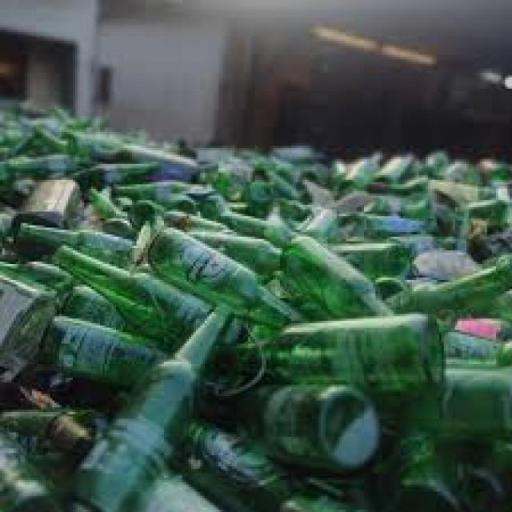glass: (72, 309, 231, 509), (252, 313, 445, 400), (48, 250, 214, 350), (143, 224, 299, 324), (227, 379, 386, 474), (373, 355, 512, 452), (172, 427, 299, 512), (277, 234, 397, 322), (43, 314, 171, 386), (386, 254, 512, 318), (394, 430, 483, 512), (1, 268, 62, 378), (0, 407, 102, 460), (17, 224, 135, 264), (202, 202, 296, 246), (54, 283, 134, 334), (330, 240, 420, 282), (114, 144, 206, 182), (17, 178, 84, 230), (113, 180, 210, 209), (0, 258, 71, 294), (74, 161, 160, 188), (70, 130, 140, 159), (4, 153, 82, 179), (254, 167, 304, 205), (86, 184, 132, 223), (167, 210, 236, 235), (357, 214, 428, 238), (208, 168, 252, 205), (428, 180, 488, 206), (24, 126, 74, 157), (460, 197, 510, 228), (343, 152, 384, 188), (365, 174, 429, 196), (360, 195, 420, 218), (195, 146, 252, 170), (394, 188, 434, 222), (382, 233, 441, 255), (373, 154, 416, 184), (272, 144, 320, 164), (442, 160, 481, 184), (424, 150, 451, 176)
